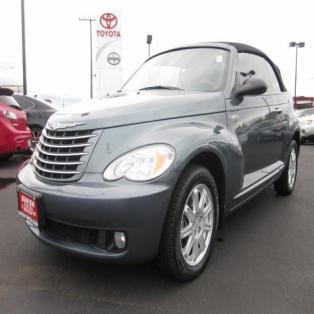Auto: (16, 41, 300, 283)
